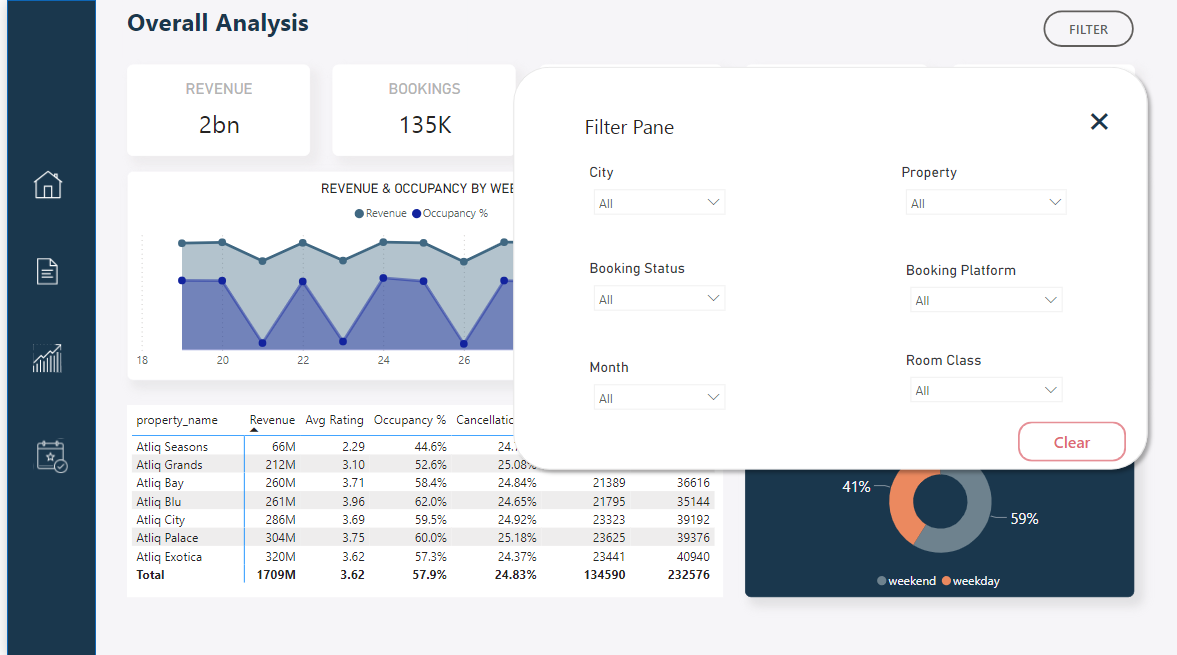

This screenshot's page, from the dashboard's own definition file:
{"tool":"powerbi","page":{"name":"Overall Analysis","canvas":[1280,720],"ordinal":1},"visuals":[{"type":"donutChart","title":"OCCUPANCY BY DAY TYPE","fields":{"Category":["dim_date.day_type"],"Y":["Measures Table.Occupancy %"]},"box":[807,442.5,425.5,210.2],"z":0},{"type":"shape","title":"Menu Background","box":[0,0,97.2,720.6],"z":1000},{"type":"card","title":"REVENUE","fields":{"Values":["Measures Table.Revenue"]},"box":[130.5,71.2,200,100],"z":2000},{"type":"actionButton","box":[24.9,182.5,100,40.7],"z":3000},{"type":"actionButton","box":[24.9,277.5,50.9,39],"z":4000},{"type":"card","title":"BOOKINGS","fields":{"Values":["Measures Table.Total Bookings"]},"box":[356,71.2,200,100],"z":5000},{"type":"card","title":"AVG RATING","fields":{"Values":["Measures Table.Average Rating"]},"box":[807,71.2,200.1,100],"z":6000},{"type":"card","title":"OCCUPANCY","fields":{"Values":["Measures Table.Occupancy %"]},"box":[581.5,71.2,200.1,100],"z":7000},{"type":"textbox","box":[125.7,0,377,63.6],"z":8000},{"type":"card","title":"CANCELLATION","fields":{"Values":["Measures Table.Cancellation %"]},"box":[1032.5,71.2,200.1,100],"z":9000},{"type":"pivotTable","fields":{"Rows":["dim_hotels.property_name"],"Values":["Measures Table.Revenue","Measures Table.Average Rating","Measures Table.Occupancy %","Measures Table.Cancellation %","Measures Table.Total Bookings","Measures Table.Total Capacity"]},"box":[130.5,442.5,651,210.2],"z":10000},{"type":"actionButton","title":"Filter Button","box":[1132.5,11.1,98.6,39.8],"z":11000},{"type":"actionButton","box":[24.9,372.4,50.9,39],"z":12000},{"type":"actionButton","box":[24.9,475.8,50.9,45.8],"z":14000},{"type":"areaChart","title":"REVENUE & OCCUPANCY BY WEEK","fields":{"Category":["dim_date.week no"],"Y":["Measures Table.Revenue"],"Y2":["Measures Table.Occupancy %"]},"box":[130.5,186.5,651,228.9],"z":15000},{"type":"columnChart","title":"AVERAGE RATING BY PROPERTY","fields":{"Category":["dim_hotels.property_name"],"Y":["Measures Table.Avg Rating"]},"box":[807,188.2,425.5,227.2],"z":16000}]}

Visuals, with their boxes on the page's 1280x720 design canvas (x1, y1, x2, y2). These are canvas units, not pixel positions in the 1177x655 screenshot, which may show the page scaled, cropped or inside an application window:
"OCCUPANCY BY DAY TYPE" donutChart: {"left": 807, "top": 442, "right": 1232, "bottom": 653}
"Menu Background" shape: {"left": 0, "top": 0, "right": 97, "bottom": 721}
"REVENUE" card: {"left": 130, "top": 71, "right": 330, "bottom": 171}
actionButton: {"left": 25, "top": 182, "right": 125, "bottom": 223}
actionButton: {"left": 25, "top": 278, "right": 76, "bottom": 316}
"BOOKINGS" card: {"left": 356, "top": 71, "right": 556, "bottom": 171}
"AVG RATING" card: {"left": 807, "top": 71, "right": 1007, "bottom": 171}
"OCCUPANCY" card: {"left": 582, "top": 71, "right": 782, "bottom": 171}
textbox: {"left": 126, "top": 0, "right": 503, "bottom": 64}
"CANCELLATION" card: {"left": 1032, "top": 71, "right": 1233, "bottom": 171}
pivotTable - dim_hotels.property_name x Measures Table.Revenue: {"left": 130, "top": 442, "right": 782, "bottom": 653}
"Filter Button" actionButton: {"left": 1132, "top": 11, "right": 1231, "bottom": 51}
actionButton: {"left": 25, "top": 372, "right": 76, "bottom": 411}
actionButton: {"left": 25, "top": 476, "right": 76, "bottom": 522}
"REVENUE & OCCUPANCY BY WEEK" areaChart: {"left": 130, "top": 186, "right": 782, "bottom": 415}
"AVERAGE RATING BY PROPERTY" columnChart: {"left": 807, "top": 188, "right": 1232, "bottom": 415}
